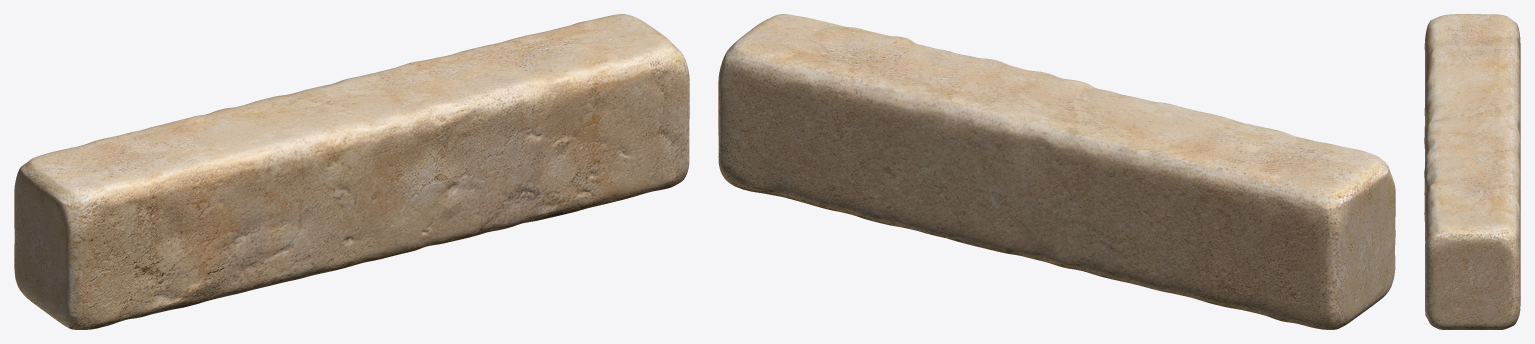
File: tripo_convert_c7994f1d-0553-4c7d-a886-e706c7328be8.fbx
3 views of the same model, side by side, from view 1: azimuth 30°, elevation 25°; view 2: azimuth 150°, elevation 25°; view 3: azimuth 270°, elevation 25° (orthographic). The views are drawn at different scales.
Parts seen in each view (by area): view 1: tripo_node_c7994f1d; view 2: tripo_node_c7994f1d; view 3: tripo_node_c7994f1d.
Boxes of the visible parts, x1=… form: tripo_node_c7994f1d: x1=14, y1=14, x2=689, y2=329; tripo_node_c7994f1d: x1=718, y1=14, x2=1395, y2=329; tripo_node_c7994f1d: x1=1424, y1=14, x2=1520, y2=329.
Size of the model in its own units: 0.9806 by 0.2124 by 0.1802.
Materials: 1 (1 with a texture image).
